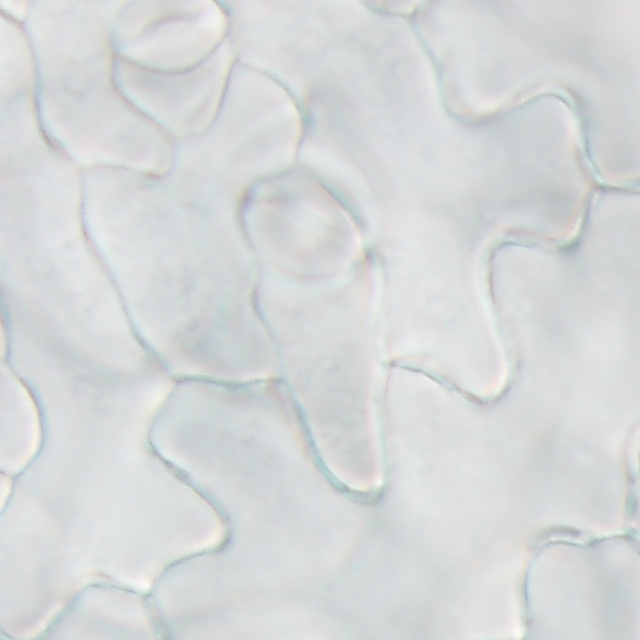center: (272, 193, 344, 238), (141, 12, 196, 36), (614, 458, 640, 461)
stomata-huw1: (240, 151, 379, 282), (113, 0, 228, 74), (627, 418, 639, 501)
